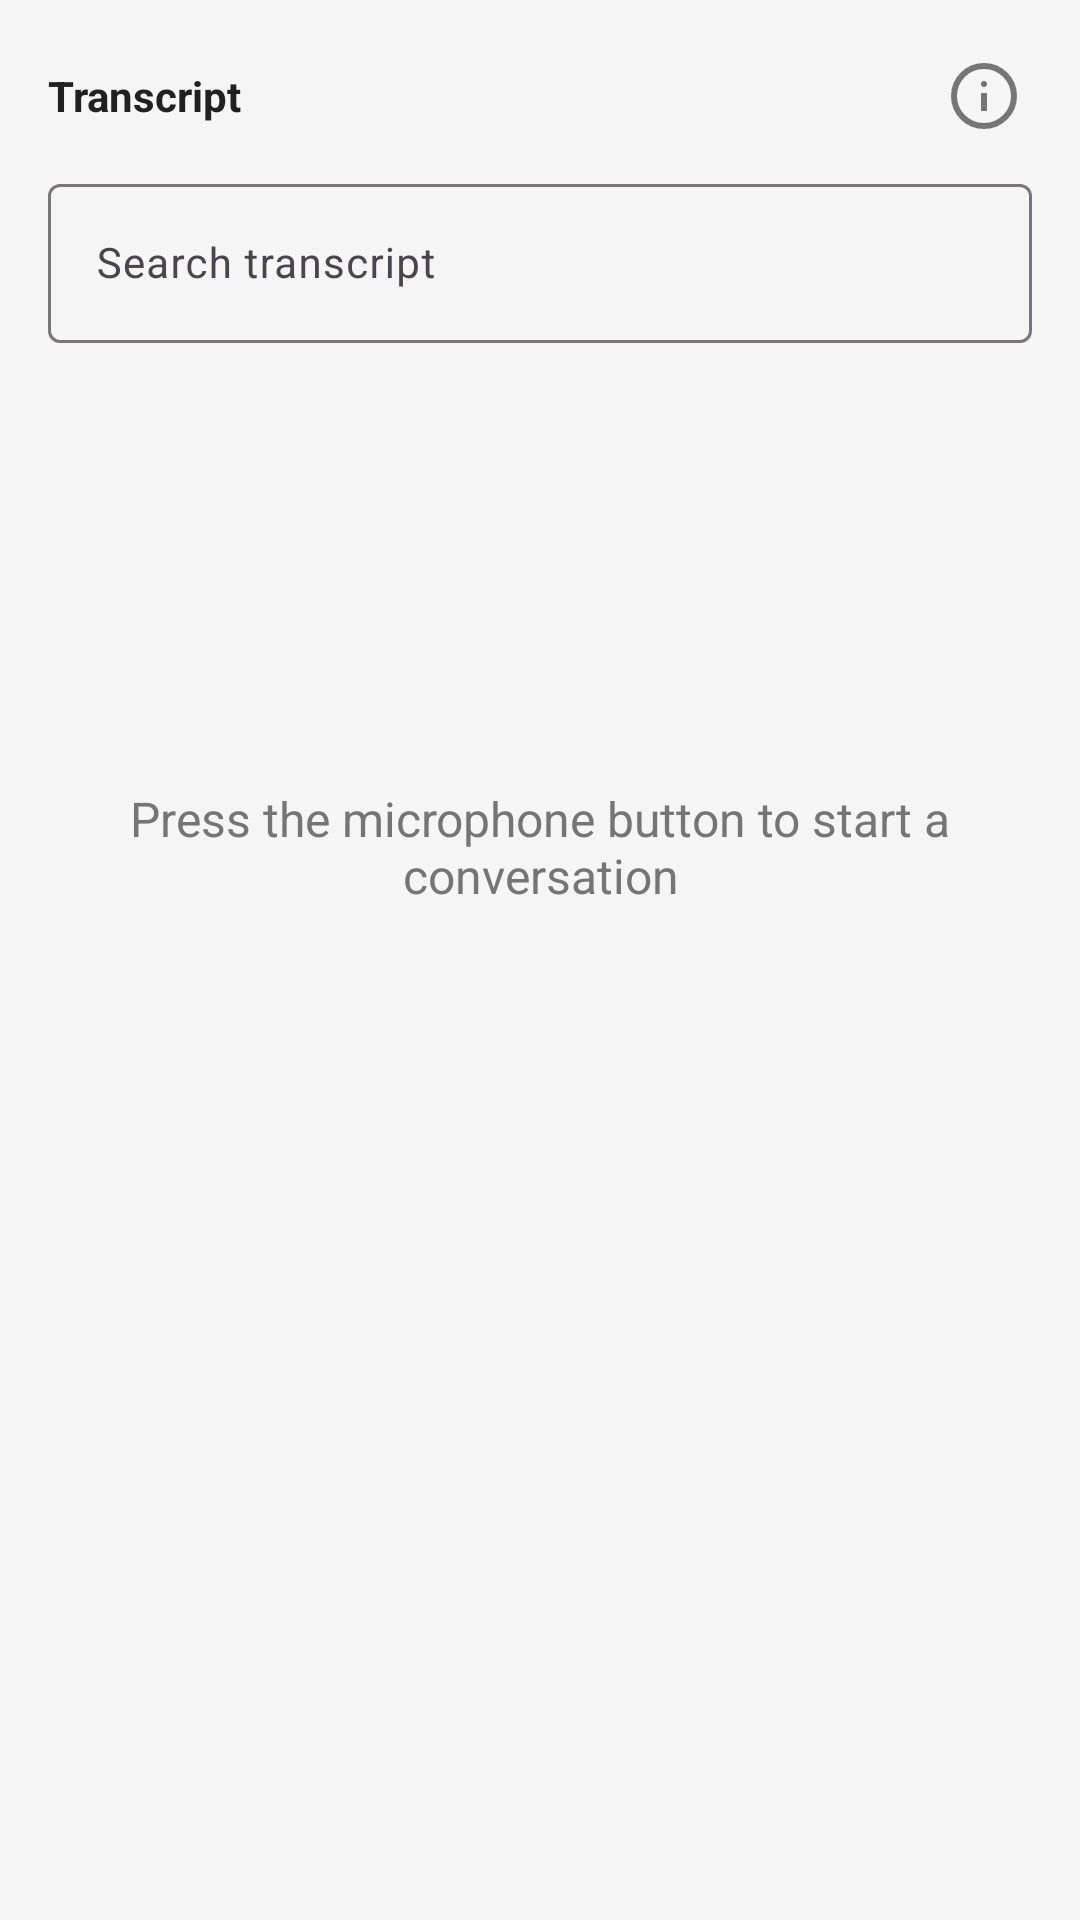

Locate icon controls on the screen. Image size 1080 × 1920, boxes as (left=x1, top=y1, right=x2, bottom=y2).
About confidence scores: (left=951, top=63, right=1017, bottom=129)
